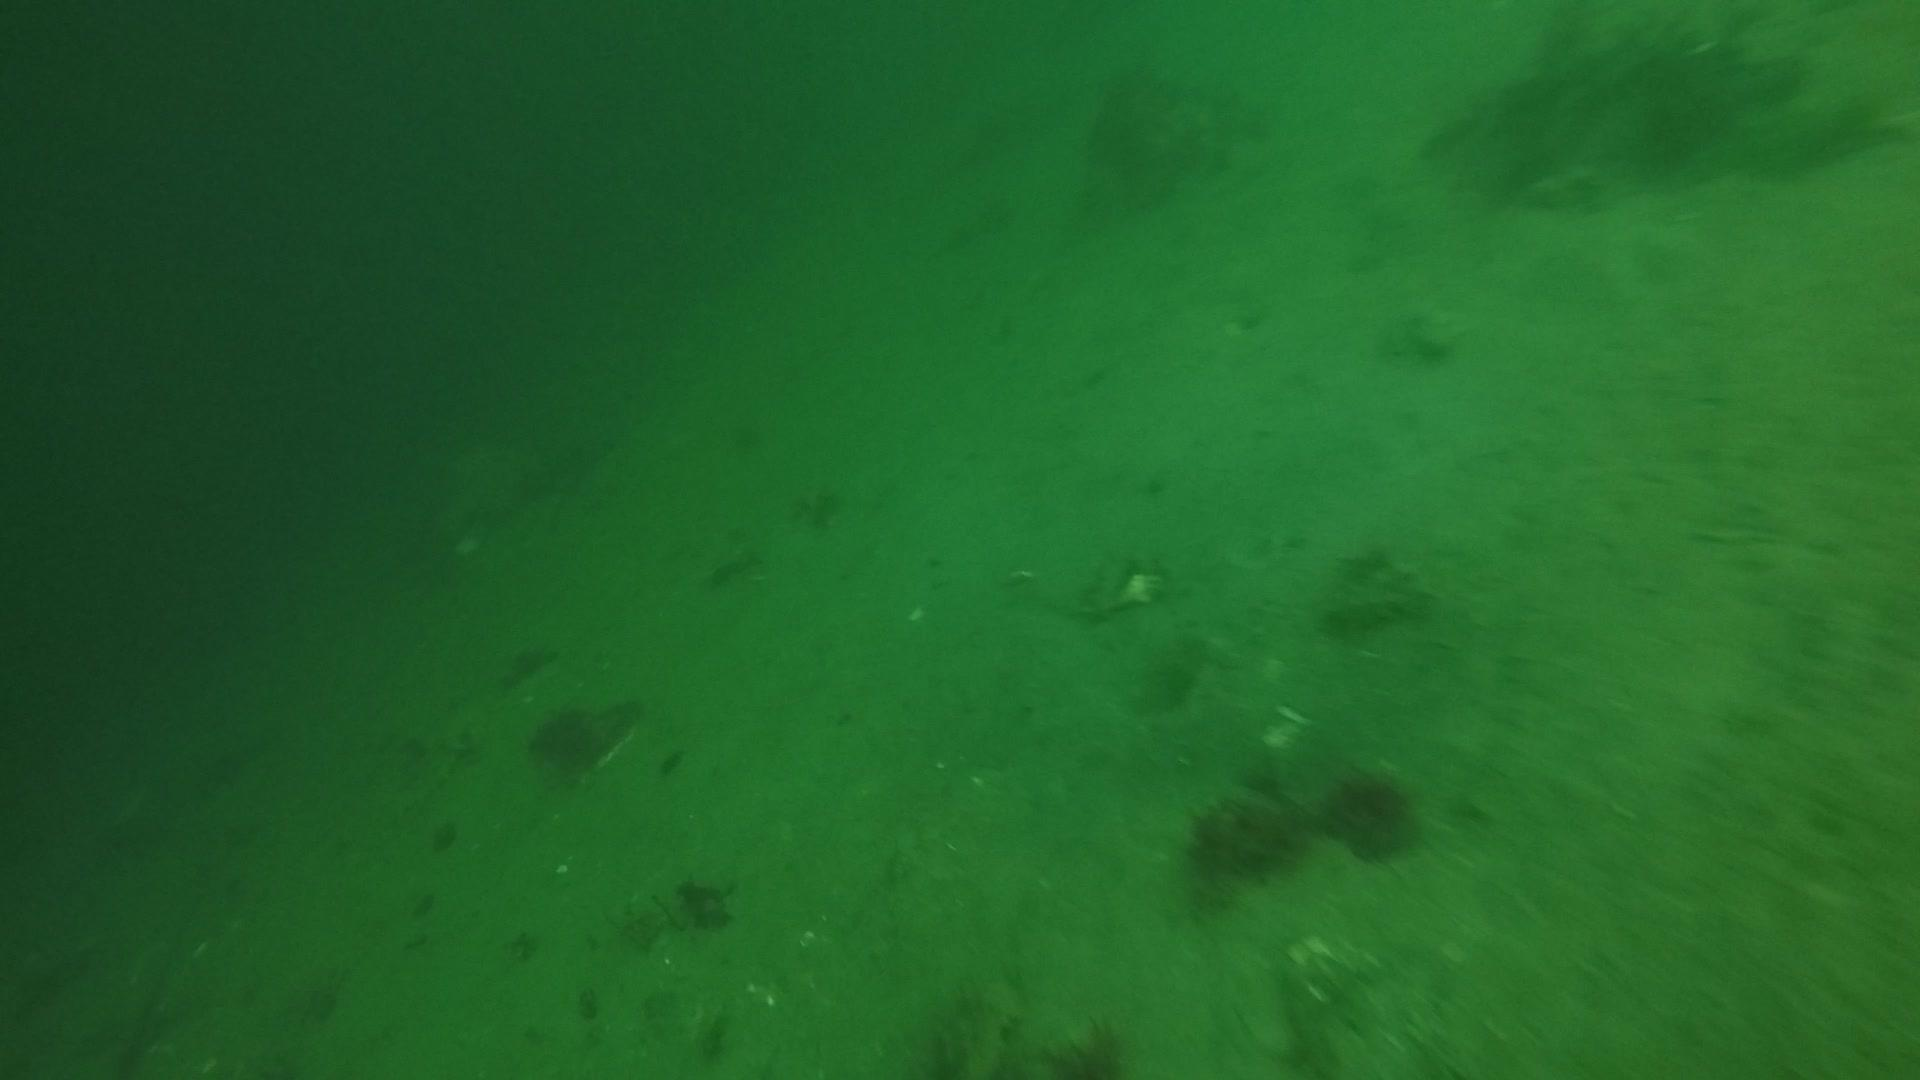holothurian: (928, 959, 1033, 1080)
